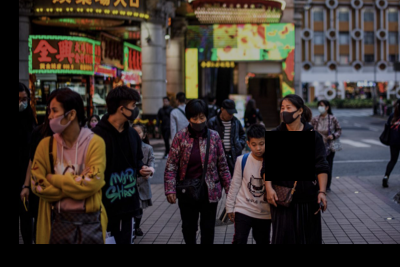mask_weared_incorrect: (47, 104, 68, 134)
with_mask: (188, 111, 207, 133), (279, 102, 299, 122), (121, 102, 139, 123), (19, 93, 28, 110), (316, 102, 327, 115)
without_mask: (249, 139, 267, 155), (223, 109, 233, 120)
